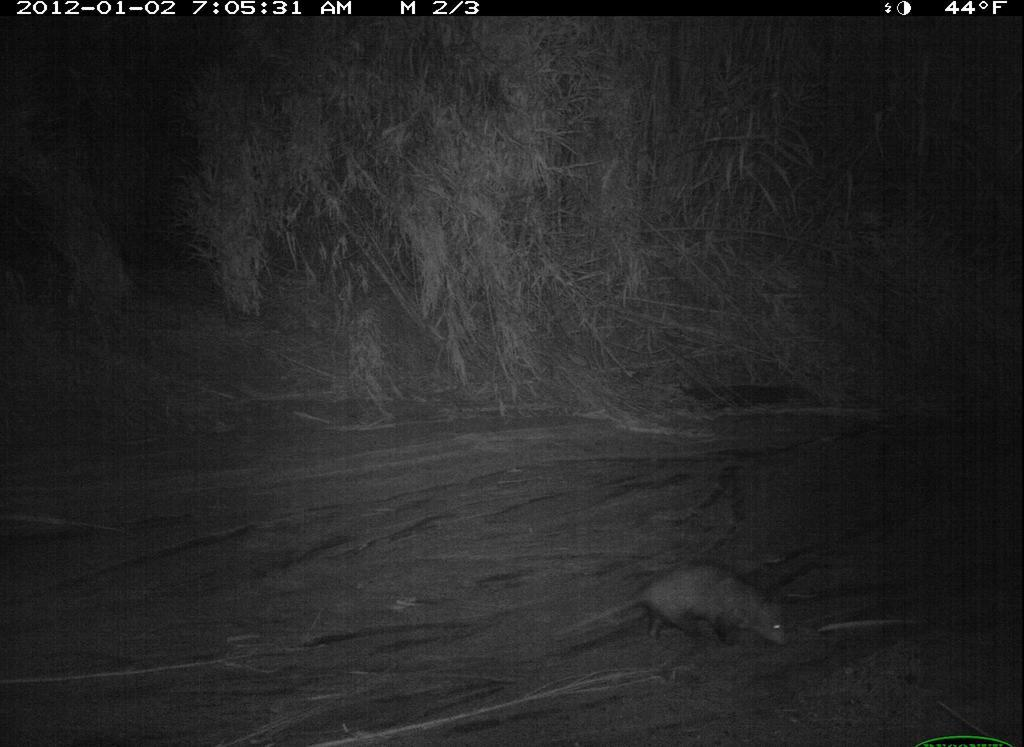opossum: (555, 559, 810, 668)
